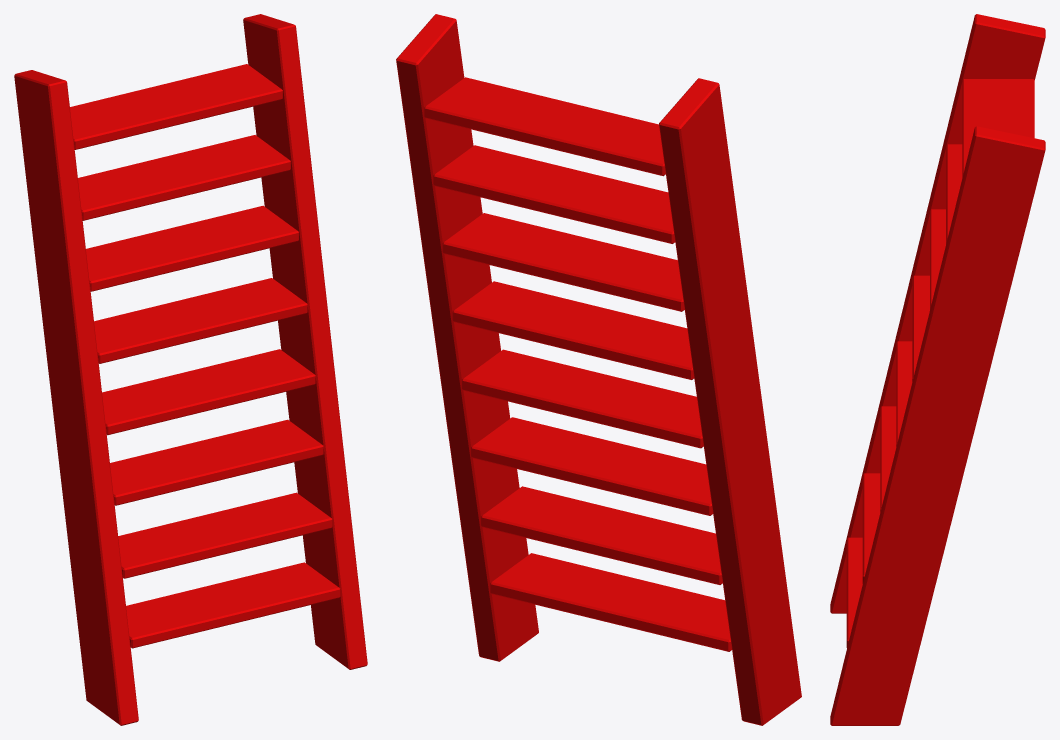
The model's file is Ladder_high.fbx.
The picture shows the model from 3 angles, left to right: view 1: azimuth 30°, elevation 25°; view 2: azimuth 150°, elevation 25°; view 3: azimuth 270°, elevation 25°; orthographic projection. The views are drawn at different scales.
Visible parts, largest first — view 1: Ladder_high; view 2: Ladder_high; view 3: Ladder_high.
Boxes of the visible parts, x1=… form: Ladder_high: x1=14, y1=14, x2=367, y2=725; Ladder_high: x1=396, y1=14, x2=801, y2=725; Ladder_high: x1=830, y1=14, x2=1045, y2=725.
Bounding box in the file's own units: 3.97 × 9.01 × 2.97.
